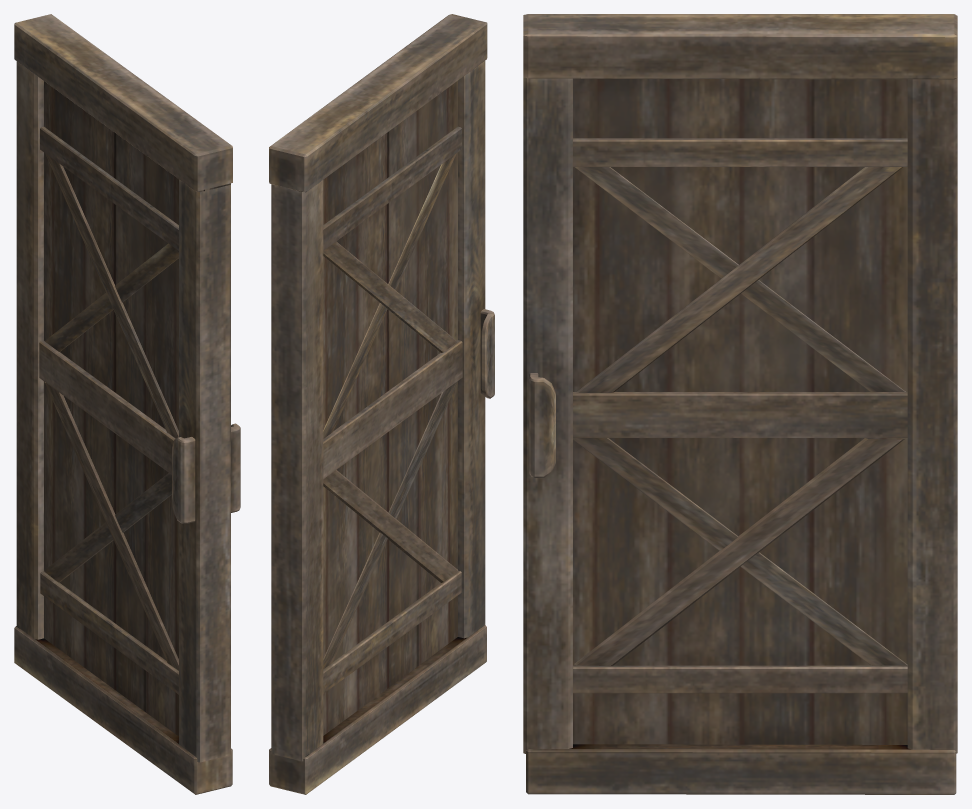
File: Door_Wood.fbx
3 renders of one model, left to right at view 1: azimuth 30°, elevation 25°; view 2: azimuth 150°, elevation 25°; view 3: azimuth 270°, elevation 25°, orthographic. The views are drawn at different scales.
Visible parts, largest first — view 1: SM_Door_Wood.mo; view 2: SM_Door_Wood.mo; view 3: SM_Door_Wood.mo.
Boxes of the visible parts, <box> form: SM_Door_Wood.mo: <box>14,14,240,794</box>; SM_Door_Wood.mo: <box>269,14,494,794</box>; SM_Door_Wood.mo: <box>523,14,957,794</box>.
Size of the model in its own units: 22.6 by 232 by 120.
